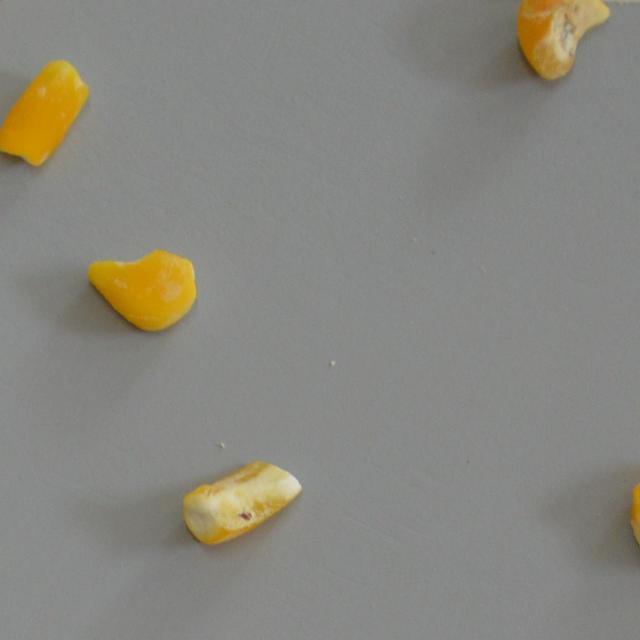dañado: (180, 458, 307, 550), (0, 52, 93, 173), (84, 242, 201, 338), (508, 0, 616, 90), (628, 452, 640, 578)
